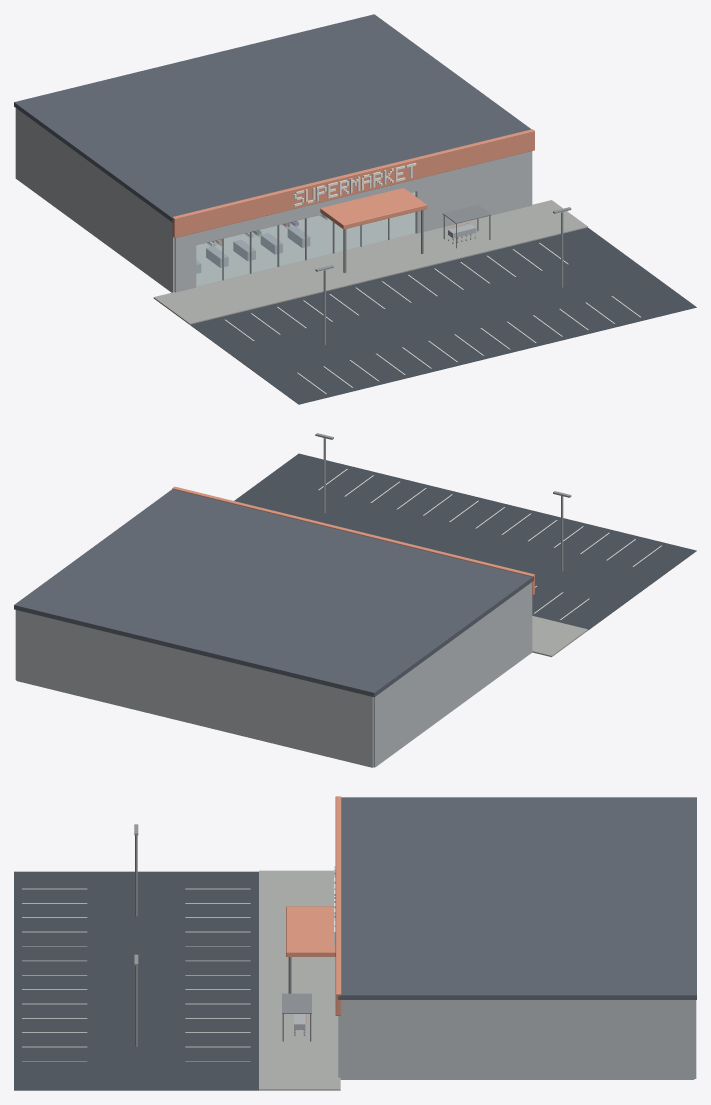
File: supply_shop.glb
3 renders of one model, top to bottom at view 1: azimuth 30°, elevation 25°; view 2: azimuth 150°, elevation 25°; view 3: azimuth 270°, elevation 25°, orthographic. The views are drawn at different scales.
Visible parts, largest first — view 1: shop; view 2: shop; view 3: shop.
Boxes of the visible parts, x1,y1,x2,y2 form: shop: (14, 14, 696, 404); shop: (14, 433, 696, 767); shop: (14, 796, 696, 1090).
Bounding box in the file's own units: 38 × 7.07 × 50.2.
